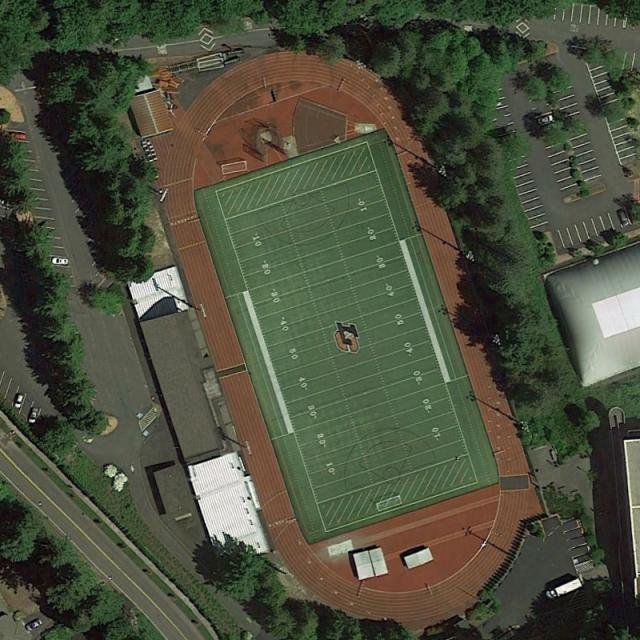vehicle: (546, 579, 582, 598), (618, 210, 629, 227), (7, 132, 26, 141), (28, 407, 38, 424), (26, 620, 42, 630), (51, 257, 68, 266), (538, 114, 553, 124), (14, 394, 23, 409)
